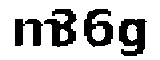3: (59, 7, 81, 52)
6: (82, 5, 115, 52)
g: (117, 15, 147, 60)
m: (11, 17, 61, 50)
